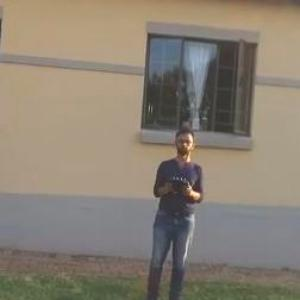follow: (140, 125, 210, 299)
